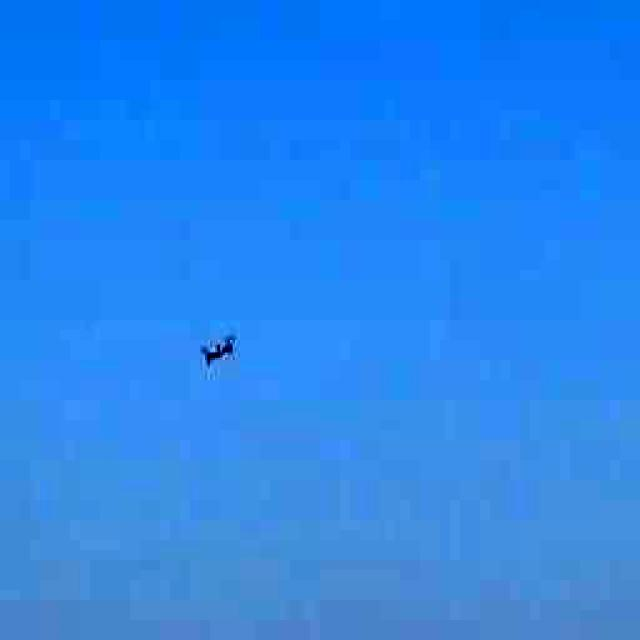bird: (180, 320, 255, 378)
